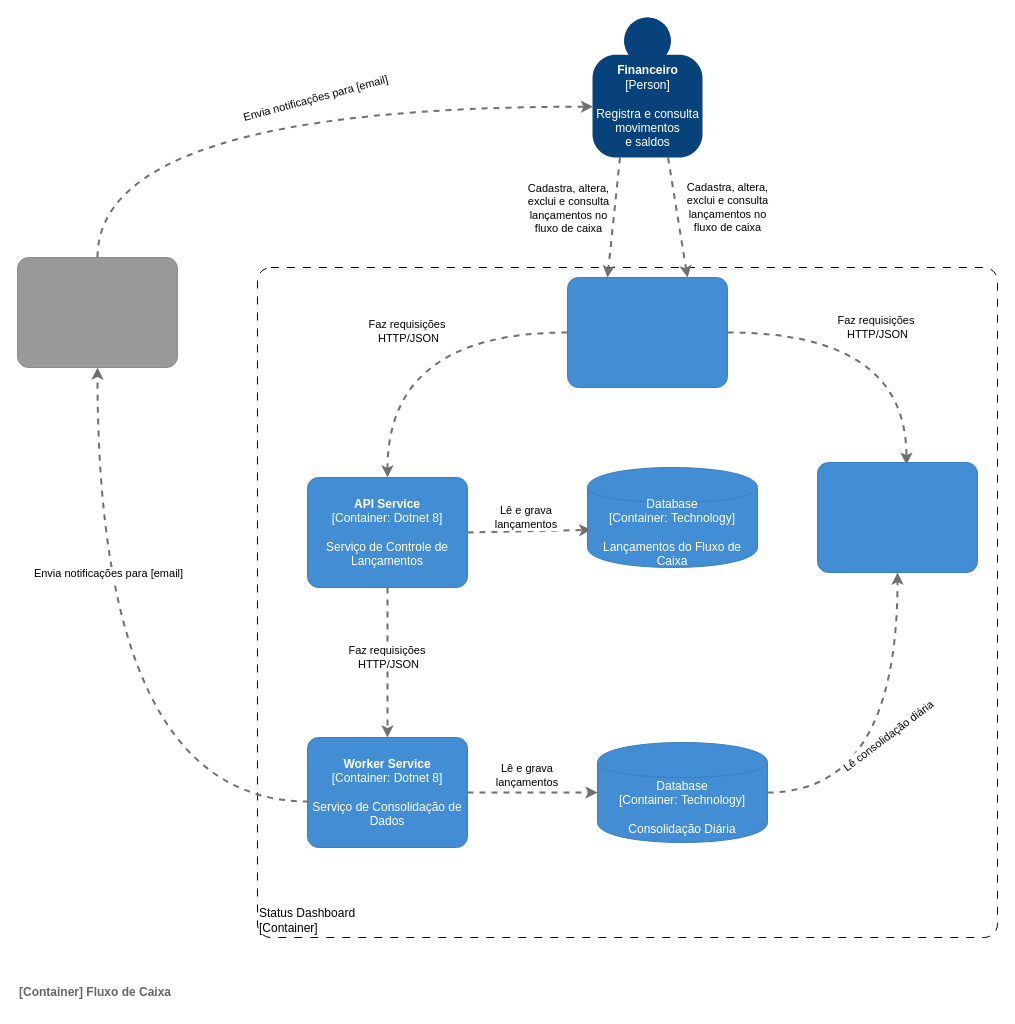
This 1015x1024 diagram has some shape labels left out. Each missing label, with the centre of its shape:
"API Service [Container: Dotnet 8] Serviço de Consolidação Diária" belongs at point (897, 517).
"Email [Software System] Envia notificações por email" belongs at point (97, 312).
"Web Application [Container: React] Fluxo de Caixa" belongs at point (647, 332).
